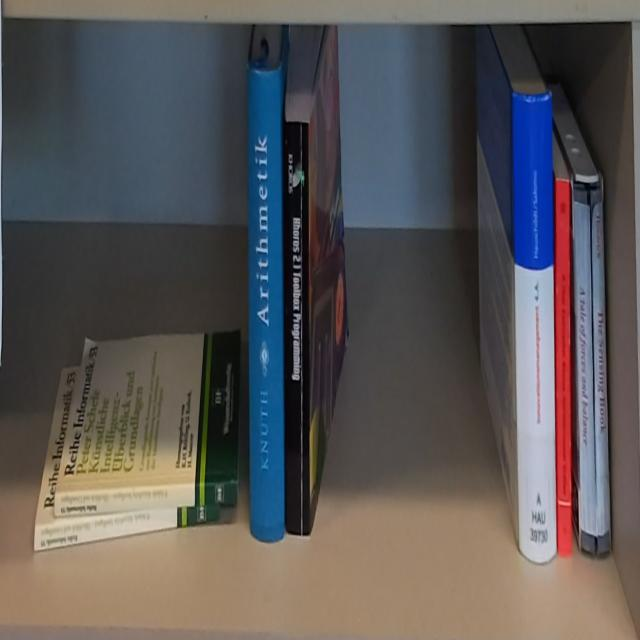Book Spine: (511, 90, 558, 571), (247, 64, 286, 544), (284, 123, 311, 541), (572, 184, 595, 553), (590, 184, 613, 552), (35, 505, 220, 550), (555, 185, 574, 562), (55, 480, 237, 518)
